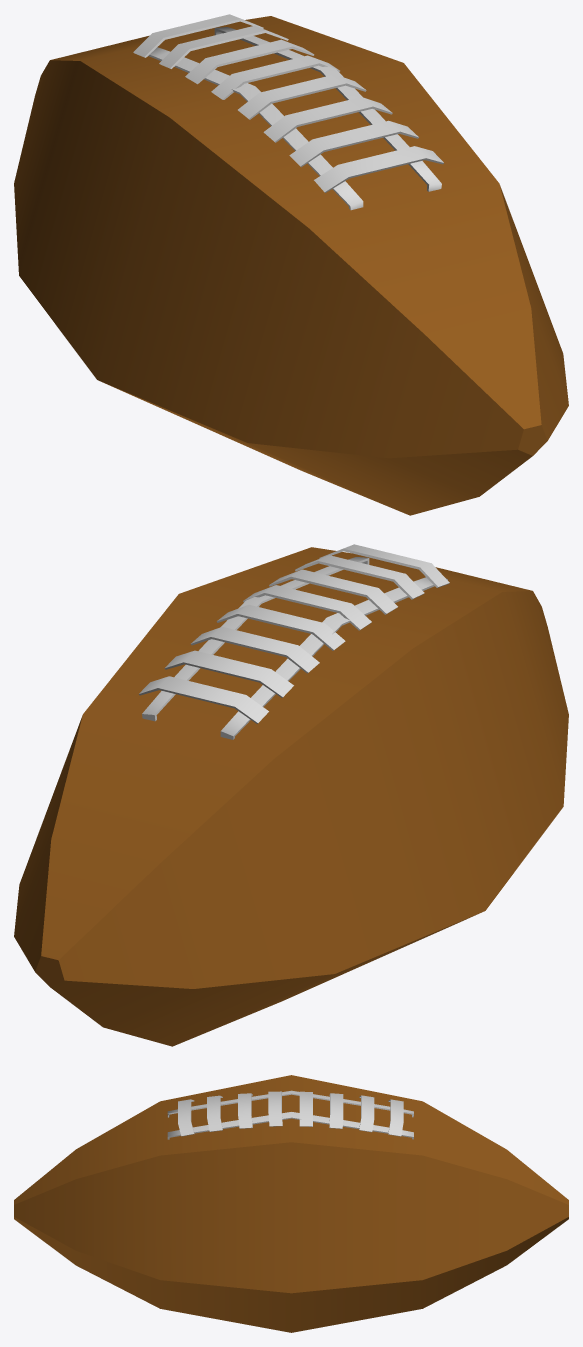
The model's file is Football_Americain.fbx.
3 renders of one model, top to bottom at view 1: azimuth 30°, elevation 25°; view 2: azimuth 150°, elevation 25°; view 3: azimuth 270°, elevation 25°, orthographic. The views are drawn at different scales.
Parts seen in each view (by area): view 1: Football_Americain; view 2: Football_Americain; view 3: Football_Americain.
Part boxes in pixels (x1,y1,x2,y2): Football_Americain: (14, 14, 568, 515); Football_Americain: (14, 544, 568, 1046); Football_Americain: (14, 1075, 568, 1332).
Size of the model in its own units: 25.81 by 25.38 by 56.11.
Materials: 1 (1 with a texture image).
